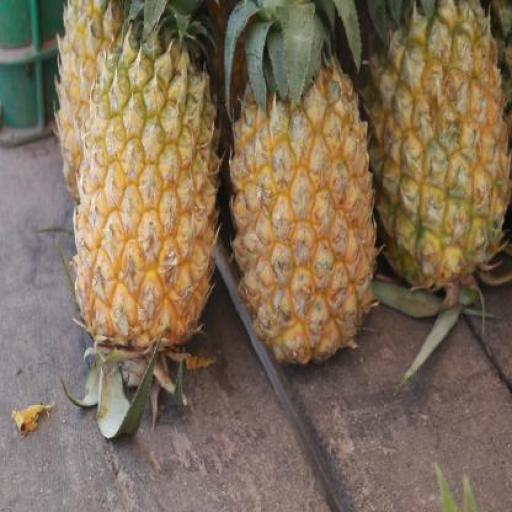------------------------------: (369, 0, 512, 293)
Pineapple - v8 v1: (78, 41, 224, 365), (233, 71, 382, 372)
